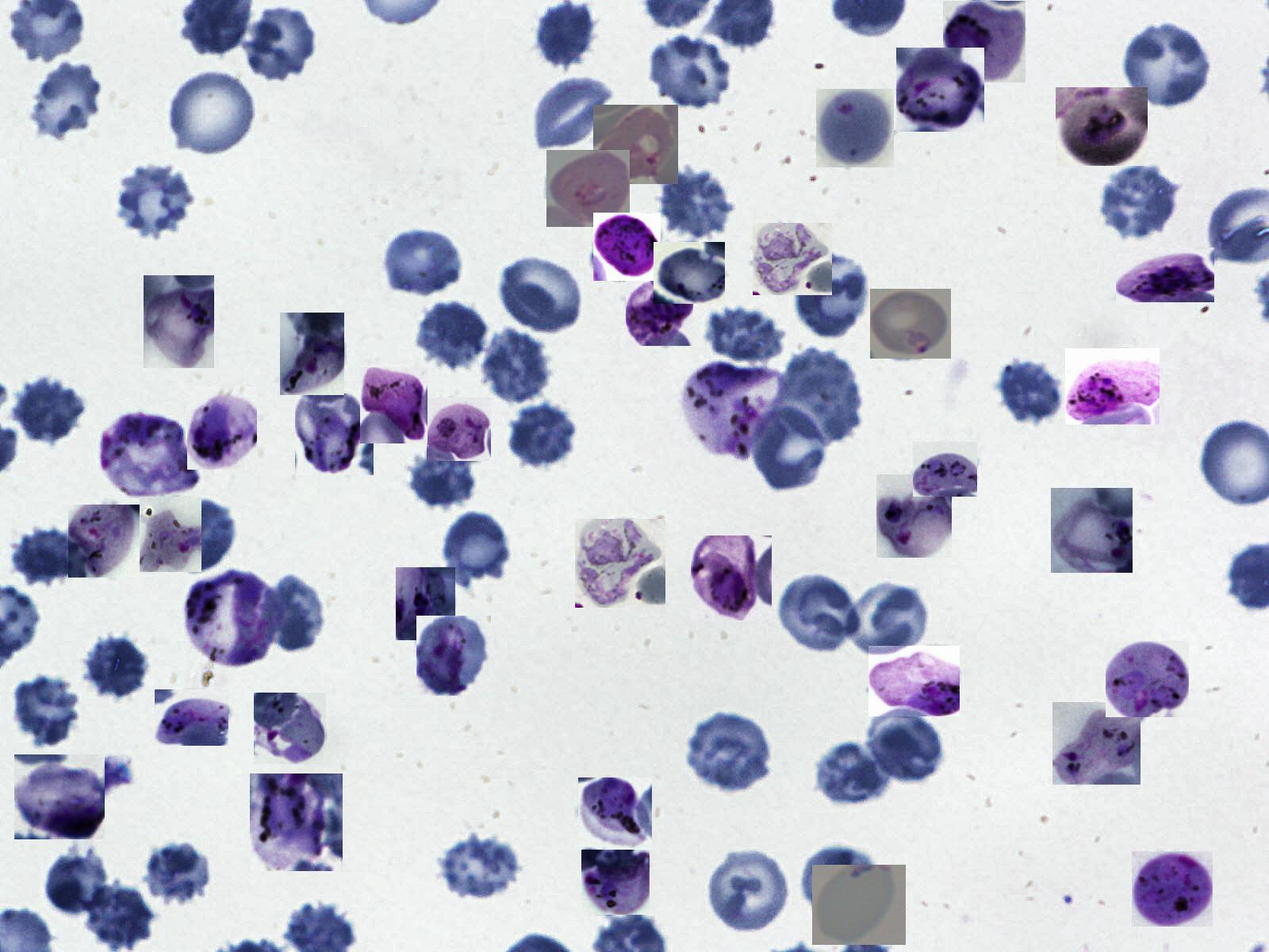Infected: (681, 360, 781, 463), (186, 570, 278, 671), (98, 412, 199, 502), (250, 774, 343, 871), (575, 519, 665, 608), (14, 754, 105, 839), (812, 865, 906, 945), (896, 48, 984, 132), (1052, 702, 1141, 785), (1056, 87, 1148, 166), (1065, 348, 1160, 424), (1051, 489, 1133, 574), (943, 1, 1026, 83), (691, 536, 772, 620), (593, 105, 678, 184), (144, 275, 214, 368), (546, 150, 630, 227), (868, 646, 960, 716), (296, 393, 374, 475), (876, 474, 952, 558), (1106, 641, 1189, 717), (1132, 851, 1213, 927), (816, 89, 894, 167), (416, 616, 491, 696), (187, 386, 257, 470), (753, 223, 832, 295), (870, 289, 951, 359), (578, 777, 652, 850), (1116, 248, 1214, 302), (68, 505, 140, 578), (280, 313, 344, 395), (254, 693, 326, 764), (360, 367, 427, 443), (627, 271, 694, 346), (581, 846, 650, 915), (593, 213, 661, 281), (140, 497, 201, 572), (654, 242, 725, 304), (396, 567, 455, 640), (155, 689, 228, 746), (427, 397, 491, 461), (913, 442, 977, 497)
Uninfected: (1122, 18, 1215, 109), (776, 347, 865, 442), (167, 68, 259, 159), (749, 402, 831, 493), (703, 848, 788, 933), (496, 255, 585, 335), (777, 573, 862, 656), (684, 711, 773, 790), (646, 34, 734, 108), (794, 254, 868, 341), (845, 583, 931, 657), (1101, 163, 1182, 240), (116, 163, 194, 240), (660, 164, 739, 240), (382, 225, 464, 298), (531, 76, 613, 148), (867, 711, 945, 786), (814, 735, 894, 807), (243, 5, 316, 83), (481, 326, 553, 405), (800, 844, 880, 915), (435, 835, 521, 898), (7, 673, 81, 746), (996, 355, 1069, 428), (13, 375, 88, 446), (704, 307, 790, 368), (31, 63, 102, 136), (82, 881, 155, 952), (263, 574, 326, 652), (504, 401, 577, 468), (171, 498, 236, 572), (417, 299, 486, 368), (443, 513, 508, 586), (7, 527, 83, 589), (83, 631, 150, 701), (142, 838, 210, 906), (532, 1, 599, 70), (404, 449, 476, 512), (44, 848, 108, 916)
